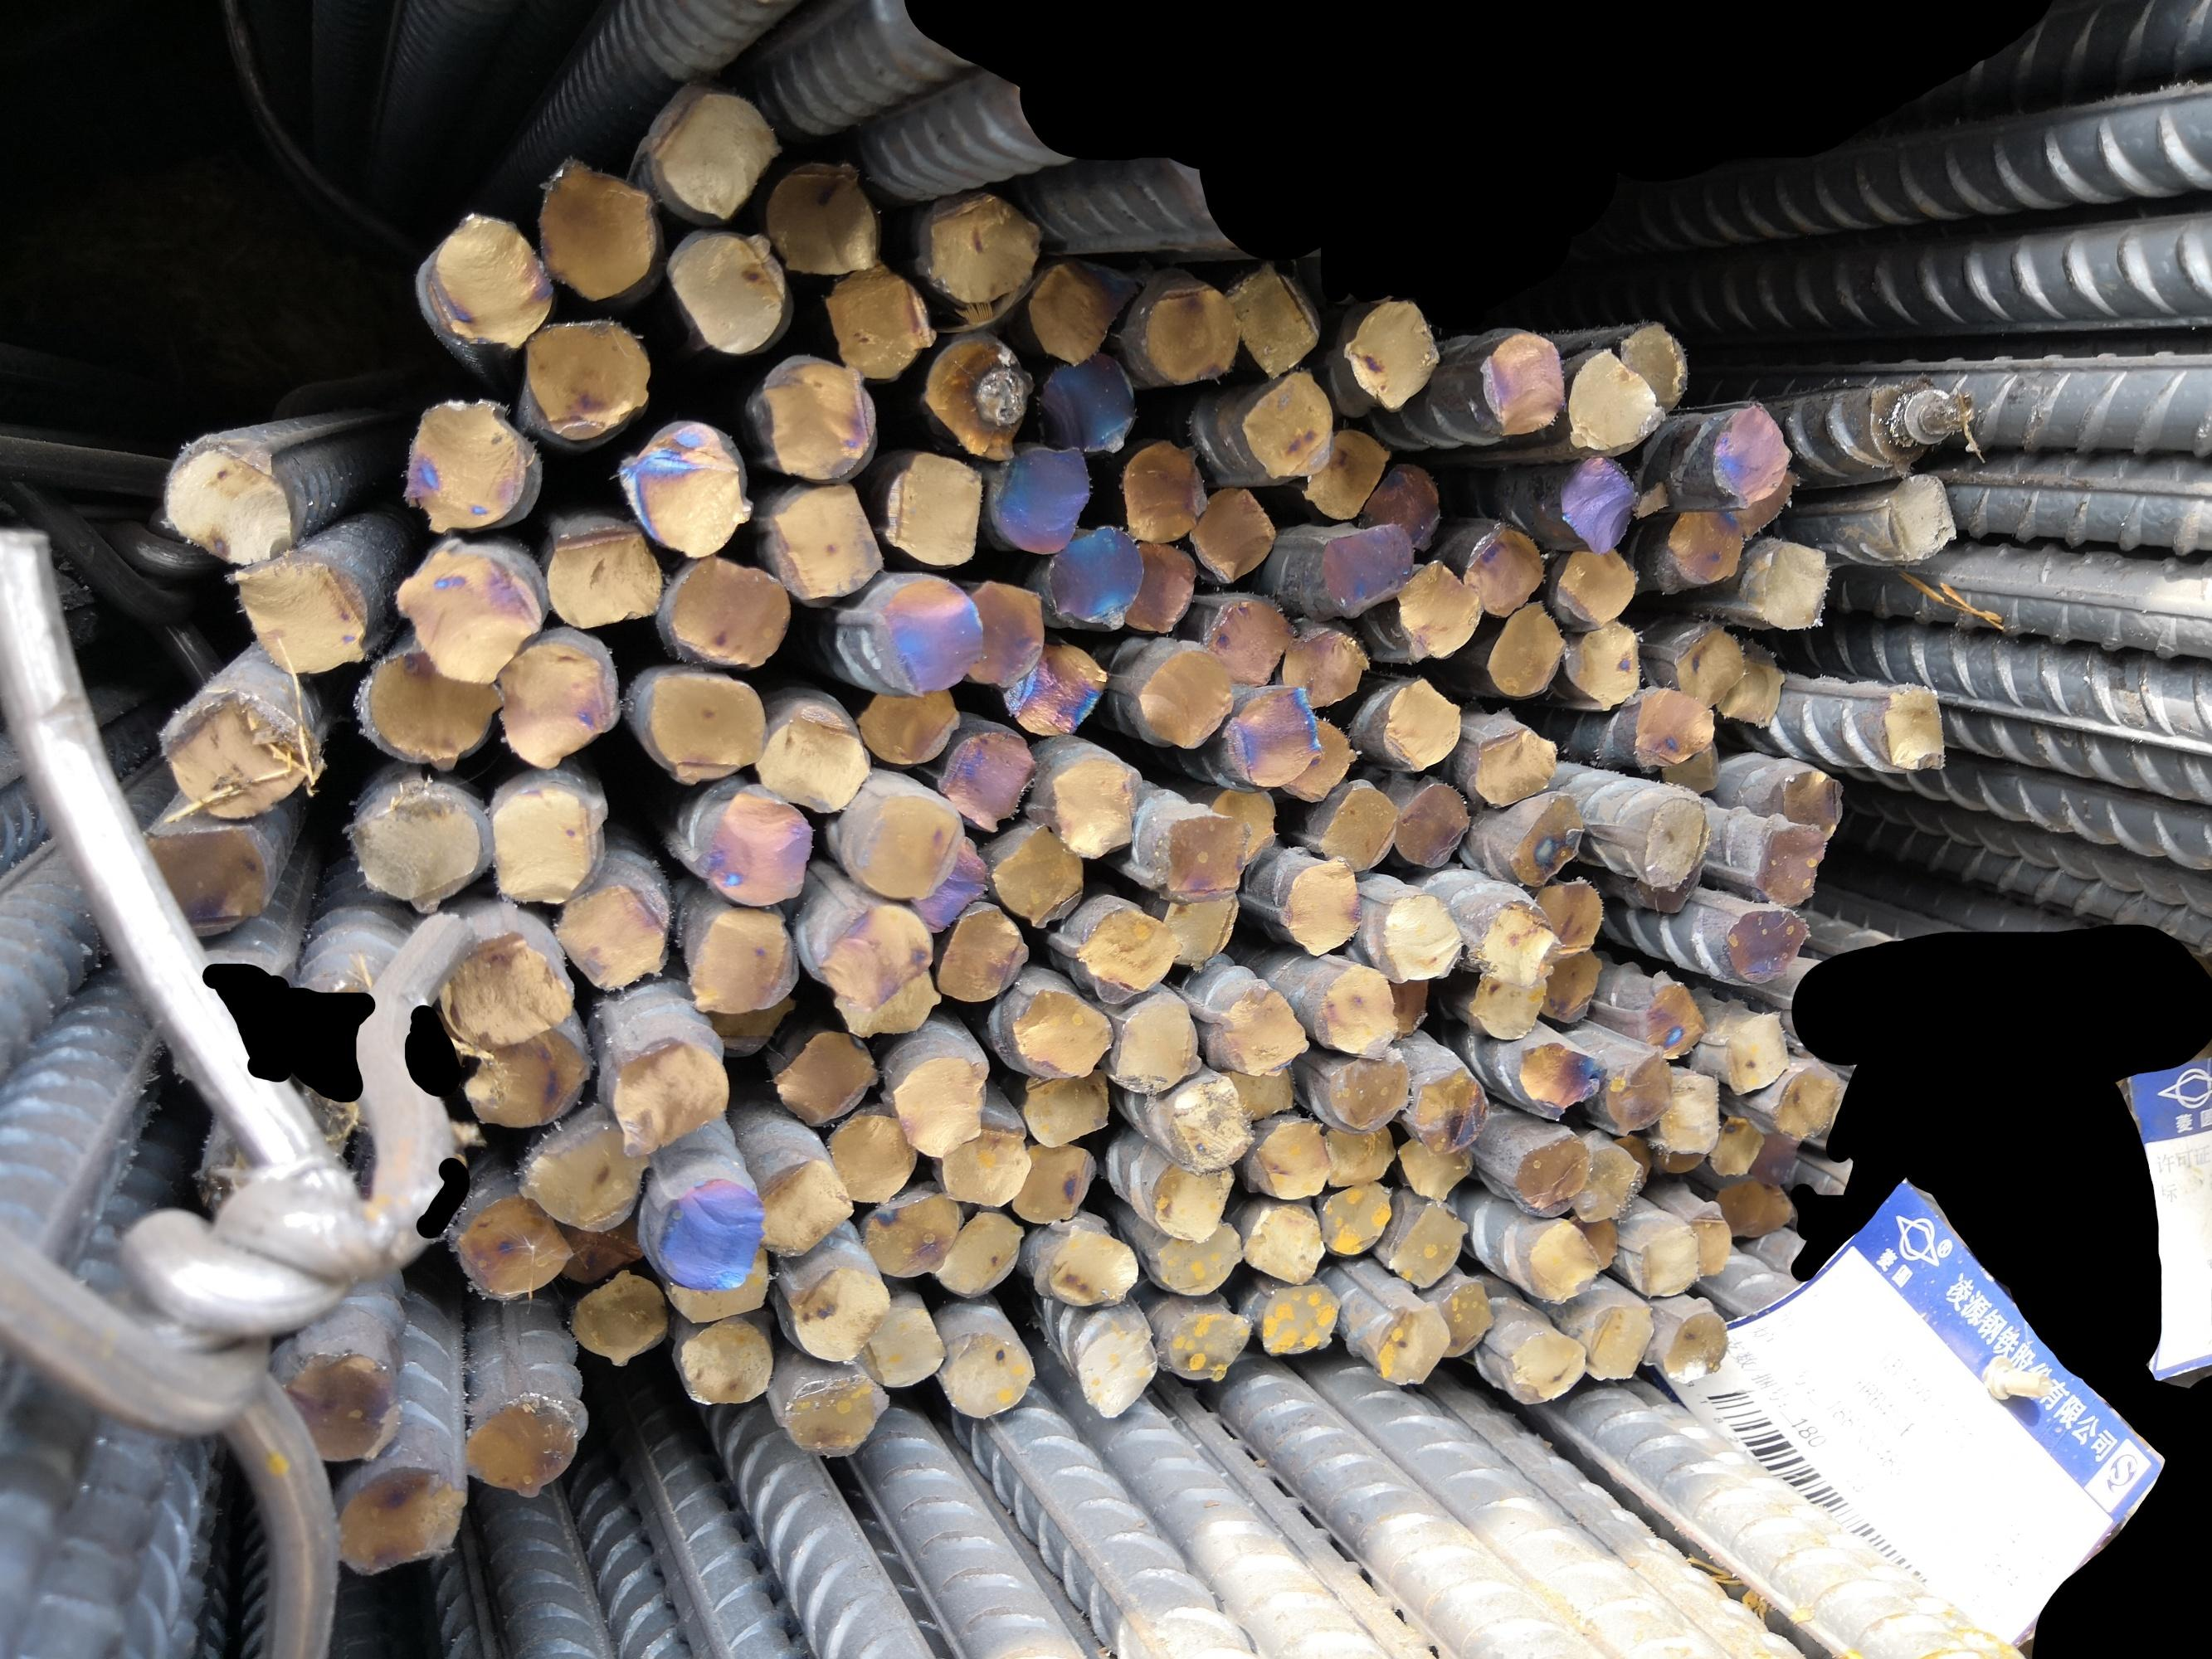bar: (390, 538, 546, 685), (157, 687, 312, 819), (422, 207, 553, 356), (617, 420, 758, 554), (647, 85, 781, 225), (401, 396, 532, 535), (533, 157, 657, 303), (157, 439, 295, 568), (350, 782, 481, 915), (357, 648, 506, 765), (434, 931, 577, 1049), (134, 819, 272, 941), (514, 319, 652, 441), (225, 559, 370, 674), (662, 223, 788, 356), (495, 638, 612, 775), (605, 1032, 732, 1157), (757, 357, 880, 484), (481, 781, 601, 911), (762, 477, 885, 603), (814, 258, 938, 382), (662, 556, 793, 673), (641, 669, 767, 789), (336, 1464, 467, 1577), (519, 1119, 650, 1232), (762, 155, 882, 277), (455, 1026, 600, 1127), (695, 788, 814, 910), (924, 333, 1034, 464), (647, 1175, 770, 1290), (868, 577, 987, 695), (926, 190, 1044, 308), (279, 1349, 401, 1462), (539, 519, 666, 627), (753, 699, 868, 814), (689, 897, 800, 1016), (1027, 249, 1138, 368), (879, 444, 985, 566), (446, 1194, 572, 1297), (818, 899, 931, 1012), (1030, 521, 1142, 634), (851, 793, 966, 903), (553, 884, 669, 992), (987, 437, 1089, 559), (460, 1394, 579, 1499), (885, 1047, 994, 1159), (1131, 640, 1239, 751), (1211, 683, 1325, 789), (765, 1026, 882, 1127), (1222, 261, 1321, 380), (1344, 295, 1440, 416), (1232, 369, 1335, 483), (781, 1260, 891, 1364), (933, 725, 1037, 835), (1142, 277, 1243, 389), (1002, 636, 1107, 742), (1035, 352, 1143, 455), (985, 823, 1086, 931), (1006, 983, 1117, 1080), (755, 1152, 856, 1258), (1072, 906, 1180, 1006), (1116, 434, 1208, 549), (1309, 519, 1417, 617), (568, 1265, 669, 1366), (931, 903, 1030, 1006), (777, 1370, 894, 1457), (1389, 559, 1487, 662), (933, 1324, 1037, 1420), (1569, 345, 1665, 450), (1182, 479, 1274, 587), (1046, 753, 1135, 863), (1192, 598, 1302, 687), (1159, 1077, 1259, 1175), (1110, 993, 1208, 1093), (1480, 329, 1565, 441), (824, 1110, 922, 1206), (1154, 809, 1253, 903), (960, 579, 1044, 690), (1110, 535, 1201, 638), (1863, 373, 1949, 481), (675, 1314, 774, 1405), (1309, 962, 1400, 1061), (1302, 425, 1393, 525), (858, 1190, 959, 1279), (1041, 1223, 1142, 1312), (854, 680, 959, 765), (905, 836, 995, 934), (1278, 857, 1365, 958), (1480, 598, 1567, 699), (1497, 795, 1590, 889), (1222, 979, 1313, 1075), (662, 1249, 781, 1323), (934, 1121, 1032, 1209), (1142, 1155, 1239, 1244), (1558, 444, 1639, 552), (1457, 518, 1544, 617), (1712, 401, 1794, 505), (936, 1204, 1025, 1300), (1279, 620, 1372, 711), (1471, 899, 1565, 988), (1018, 1061, 1114, 1148), (1876, 469, 1961, 566), (1752, 535, 1835, 634), (1466, 723, 1558, 812), (1717, 899, 1813, 985), (1386, 774, 1469, 871), (1072, 1326, 1159, 1419), (1360, 460, 1447, 552), (1316, 781, 1400, 877), (1388, 1190, 1469, 1288), (1382, 673, 1461, 774), (1009, 1138, 1102, 1223), (835, 964, 941, 1037), (856, 1304, 945, 1391), (1513, 1035, 1598, 1126), (1201, 779, 1283, 873), (1564, 613, 1644, 709), (1517, 1216, 1604, 1304), (1630, 685, 1720, 769), (1640, 789, 1715, 890), (1321, 1049, 1410, 1133), (1382, 890, 1464, 981), (1874, 678, 1947, 779), (1374, 1297, 1452, 1391), (1510, 1131, 1591, 1220), (1616, 317, 1689, 415), (1501, 1328, 1591, 1406), (1672, 615, 1745, 711), (1159, 885, 1243, 969), (1248, 1117, 1333, 1199), (1663, 500, 1743, 587), (1238, 1206, 1327, 1284), (1253, 1279, 1342, 1358), (1553, 545, 1642, 624), (1414, 1066, 1489, 1159), (1152, 1223, 1245, 1297), (1283, 716, 1361, 802), (1522, 877, 1607, 955), (1166, 1307, 1253, 1384), (1752, 819, 1829, 906), (1578, 1298, 1652, 1387), (702, 988, 800, 1056), (558, 1215, 648, 1284), (1468, 967, 1550, 1044), (1316, 1176, 1391, 1260), (1656, 1068, 1726, 1157), (1576, 1134, 1645, 1223), (1318, 1114, 1398, 1190), (1656, 1307, 1731, 1387), (1426, 1276, 1496, 1361), (1532, 950, 1607, 1028), (1598, 1054, 1673, 1133), (1625, 1222, 1700, 1298), (1720, 1009, 1787, 1094), (1713, 655, 1787, 732), (1645, 979, 1708, 1065), (1398, 1131, 1473, 1202), (1731, 460, 1797, 540), (1769, 1061, 1835, 1141), (1776, 769, 1848, 840), (1218, 1060, 1299, 1119), (1637, 852, 1712, 915), (1659, 734, 1727, 796), (1684, 1206, 1736, 1284), (1569, 1209, 1625, 1276), (1705, 1115, 1761, 1176), (1382, 969, 1429, 1040), (1708, 1180, 1762, 1239), (1743, 1180, 1792, 1243), (1609, 1124, 1654, 1190), (1748, 1127, 1799, 1185), (1659, 1138, 1710, 1175)
